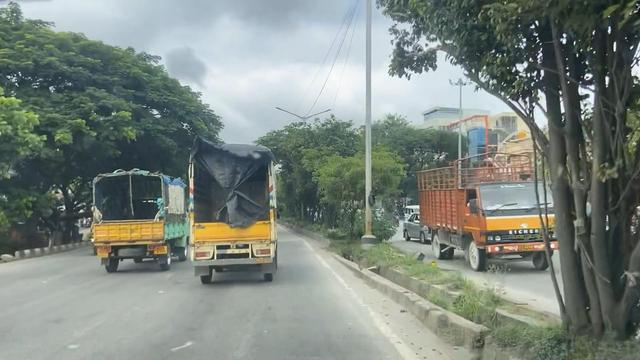HMV: (178, 125, 293, 300), (411, 159, 558, 284), (88, 164, 184, 275)
